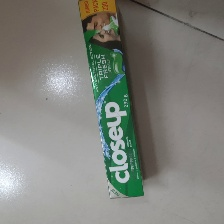CloseUp Xanh: (76, 1, 144, 199)
